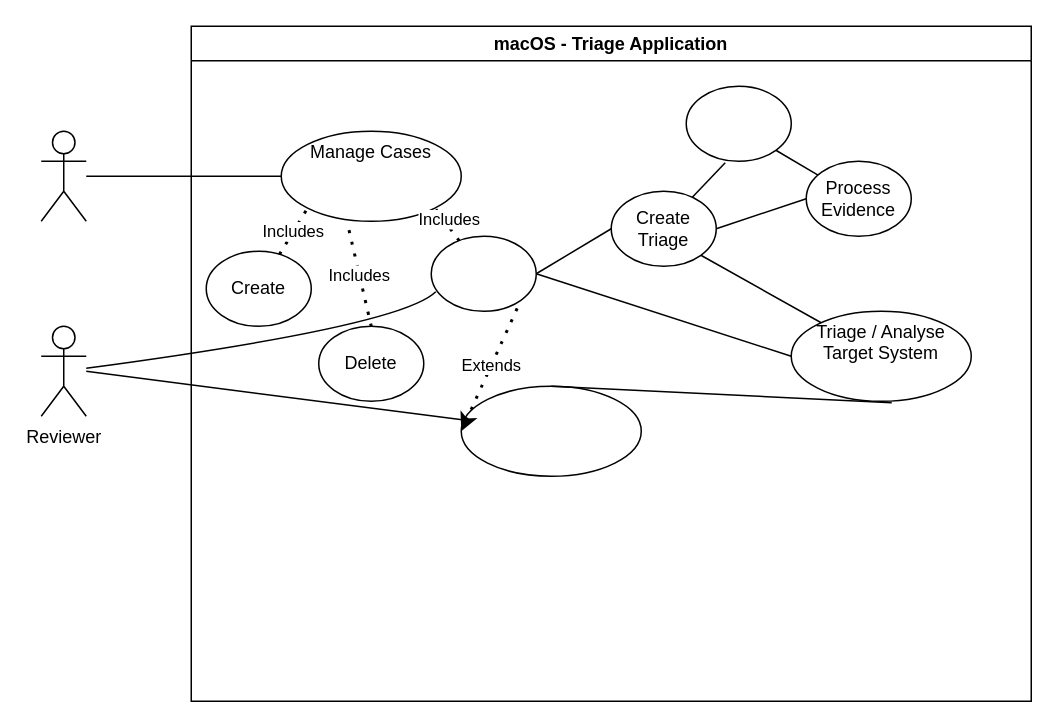
Some shapes in this 1058 by 728 pixel diagram are drawn without their labels. The shapes that lost their labels are listed below. From the top down, each one's box as (x1, y1, x2, y2) in pixels, then its label:
(685, 85, 791, 161): Acquire Evidence
(40, 130, 86, 221): Analyst
(430, 235, 536, 311): View
(460, 385, 641, 476): Create Reports
